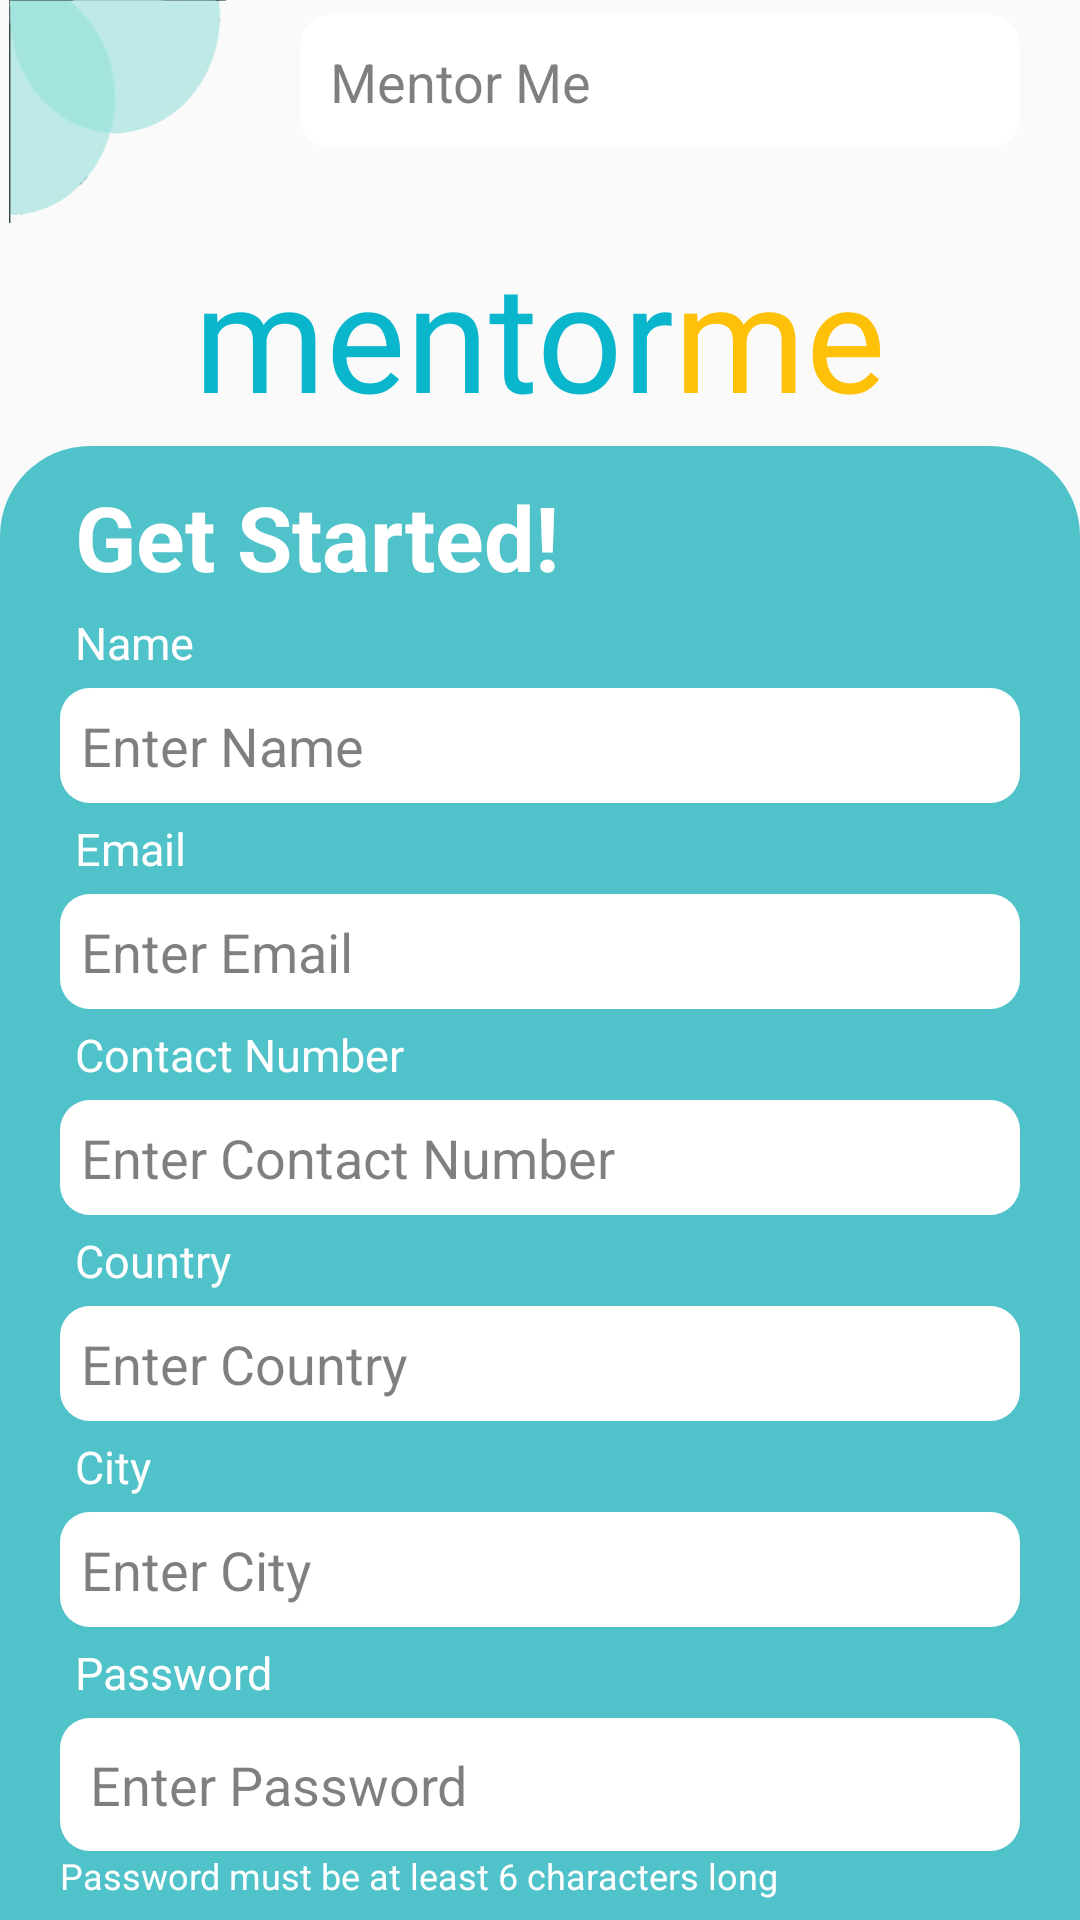

Icon click points for this 1080*1920 phone screenshot, format [x,y]:
double circle: [118,111]
